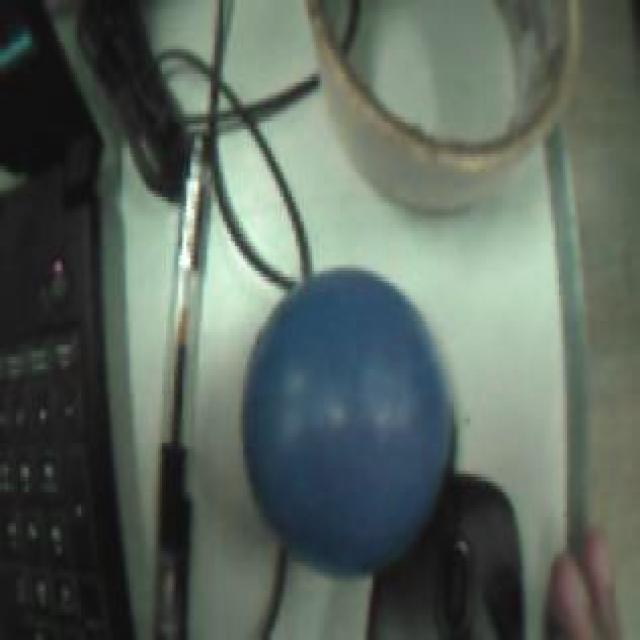BallPurple: (242, 269, 452, 573)
